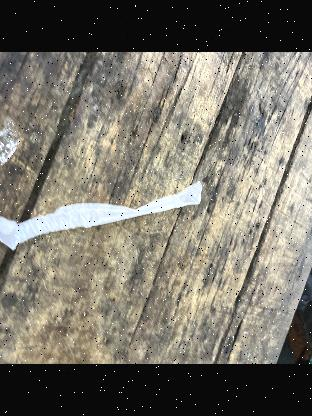Others: (0, 179, 207, 248), (0, 129, 20, 167)
